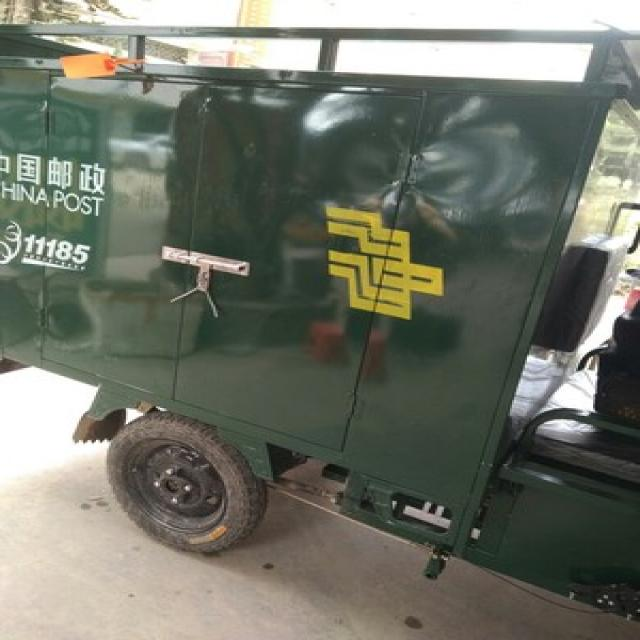tricycle: (4, 18, 638, 627)
